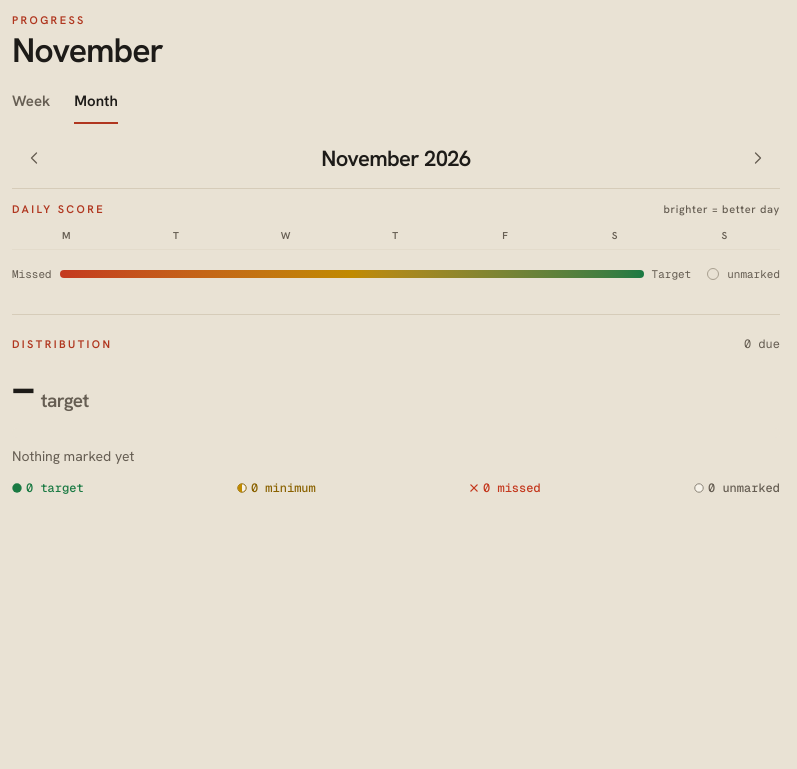
Test: ProgressPage › opens on the month from the URL and goes back to the week
Check: the heading "November 2026" is shown, box top-left (321, 144), bottom-right (471, 173)
Click the button "Week" at [31, 102], box top-left (12, 80), bottom-right (50, 124)
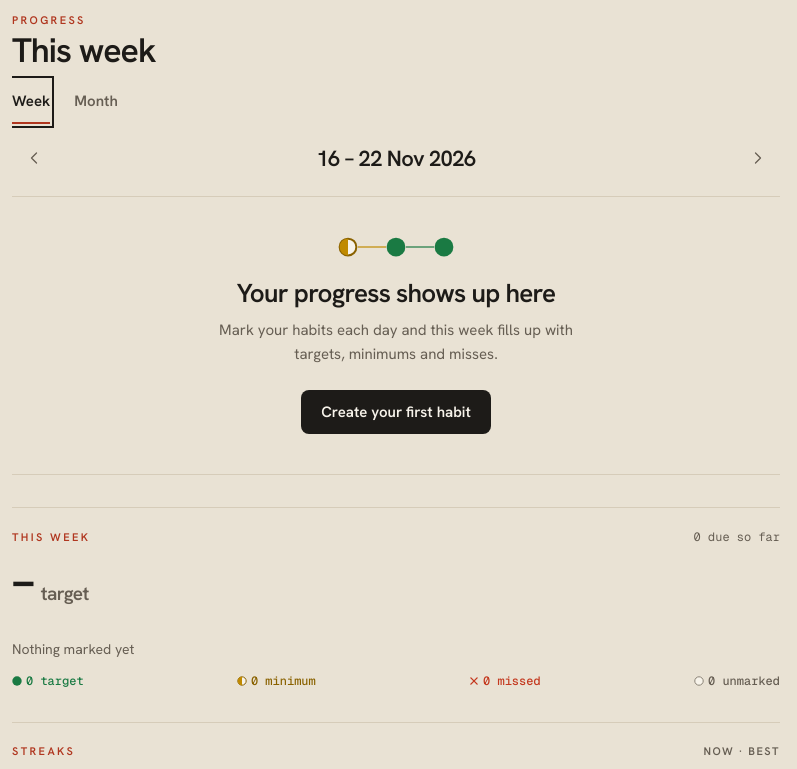
Check: the heading "16 – 22 Nov 2026" is shown, box top-left (316, 144), bottom-right (476, 173)
